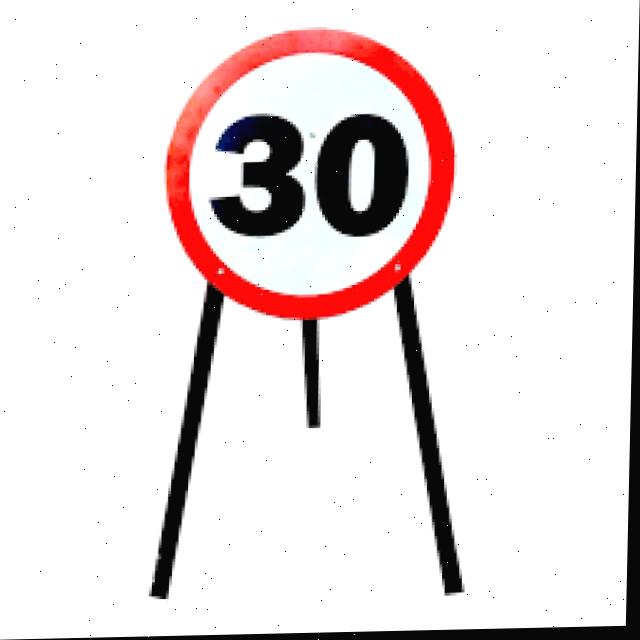Speed limit 30: (160, 22, 461, 325)
